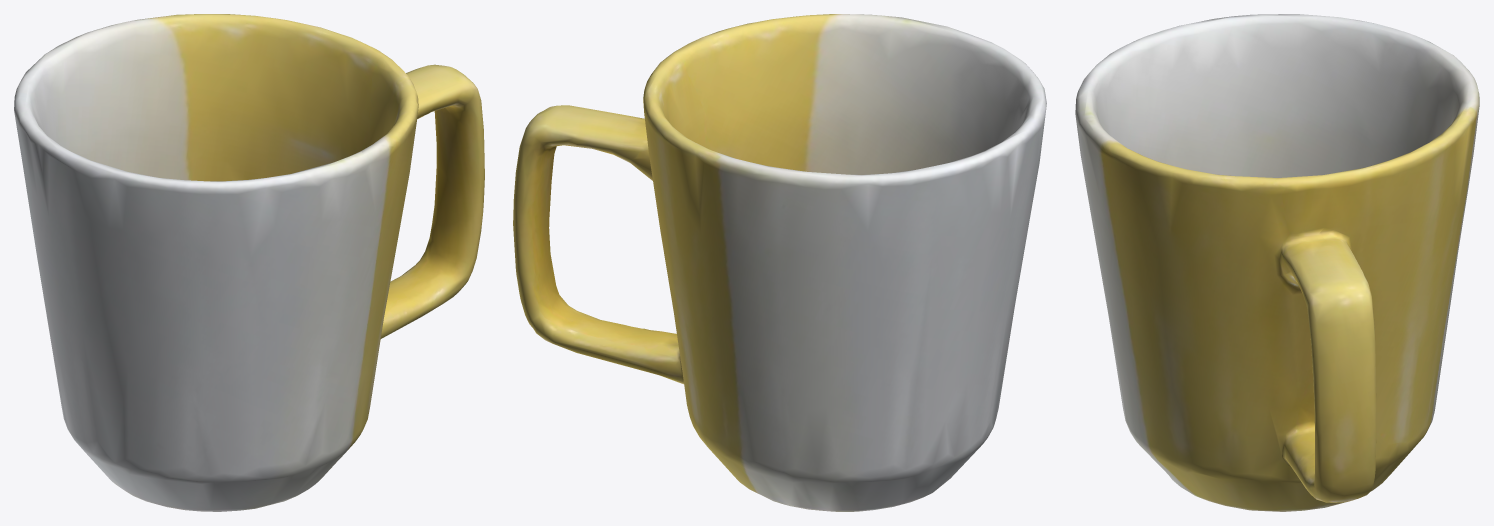
Rendered from mug-yellow.glb.
3 views of the same model, side by side, from view 1: azimuth 30°, elevation 25°; view 2: azimuth 150°, elevation 25°; view 3: azimuth 270°, elevation 25° (orthographic).
Visible parts, largest first — view 1: Room_Essentials_Mug_White_Yellow; view 2: Room_Essentials_Mug_White_Yellow; view 3: Room_Essentials_Mug_White_Yellow.
Part boxes in pixels (x1,y1,x2,y2): Room_Essentials_Mug_White_Yellow: (14,14,484,511); Room_Essentials_Mug_White_Yellow: (513,14,1046,511); Room_Essentials_Mug_White_Yellow: (1075,14,1479,511).
Size of the model in its own units: 0.1368 by 0.1048 by 0.1022.
1 material, 1 textured.
